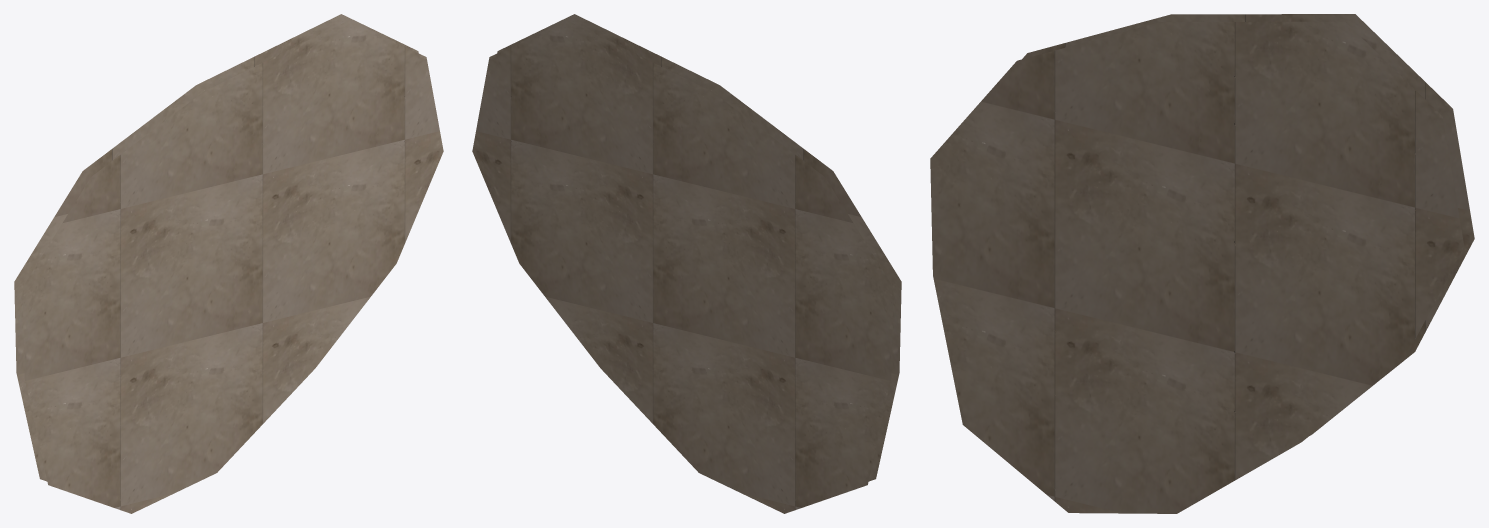
The model's file is floor_39.obj.
3 renders of one model, left to right at view 1: azimuth 30°, elevation 25°; view 2: azimuth 150°, elevation 25°; view 3: azimuth 330°, elevation 25°, orthographic. The views are drawn at different scales.
Parts seen in each view (by area): view 1: floor_39; view 2: floor_39; view 3: floor_39.
Part boxes in pixels (x1,y1,x2,y2): floor_39: (14, 14, 443, 513); floor_39: (472, 14, 901, 513); floor_39: (930, 14, 1474, 513).
Bounding box in the file's own units: 2.96 × 2.96 × 0.1.
Materials: 1 (1 with a texture image).
